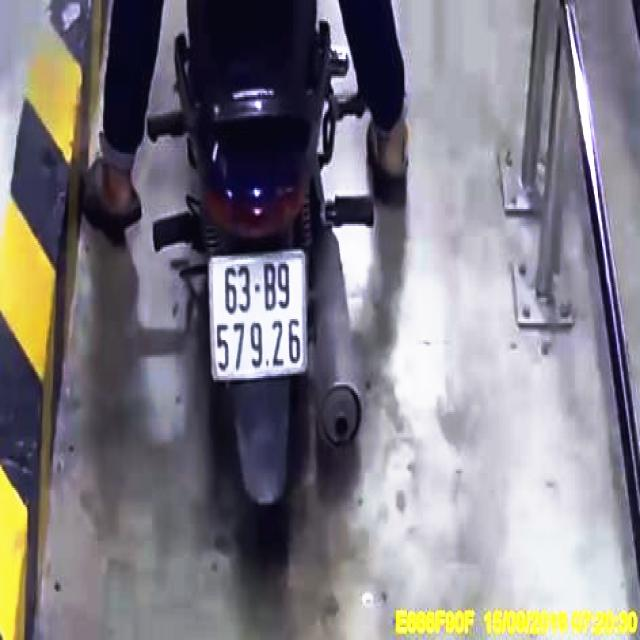license_plate: (209, 252, 308, 380)
